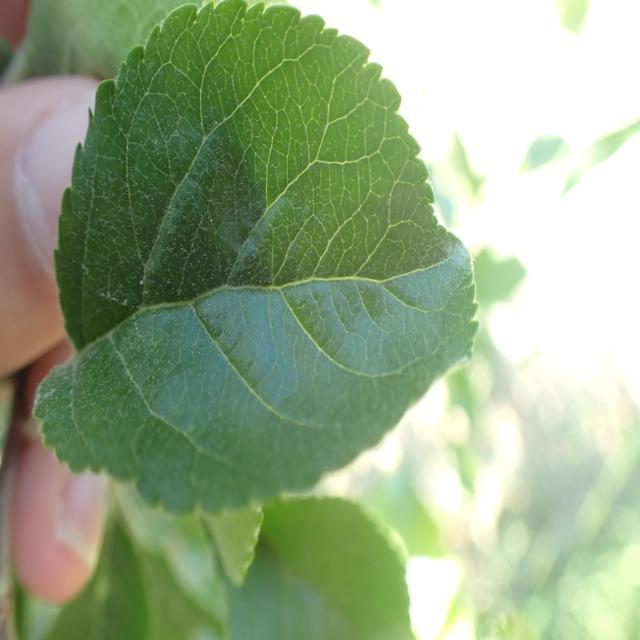healthy: (33, 0, 481, 515)
